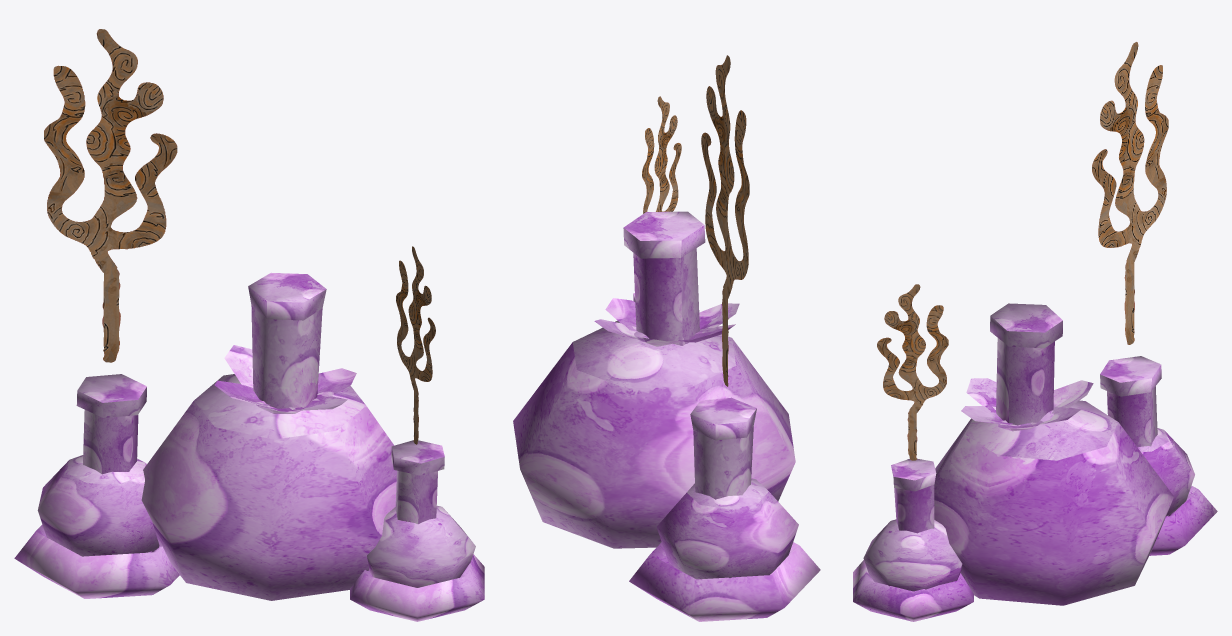
The model's file is polygonalmind-momuspark-017.glb.
3 renders of one model, left to right at view 1: azimuth 30°, elevation 25°; view 2: azimuth 150°, elevation 25°; view 3: azimuth 270°, elevation 25°, orthographic. The views are drawn at different scales.
Parts seen in each view (by area): view 1: Flower_02_b_Art; view 2: Flower_02_b_Art; view 3: Flower_02_b_Art.
Boxes of the visible parts, x1,y1,x2,y2 form: Flower_02_b_Art: (14,29,484,621); Flower_02_b_Art: (513,55,820,621); Flower_02_b_Art: (853,42,1217,621).
Size of what is drawn, in the model's own units: 0.4915 by 0.7849 by 0.5256.
Materials: 2 (2 with a texture image).
